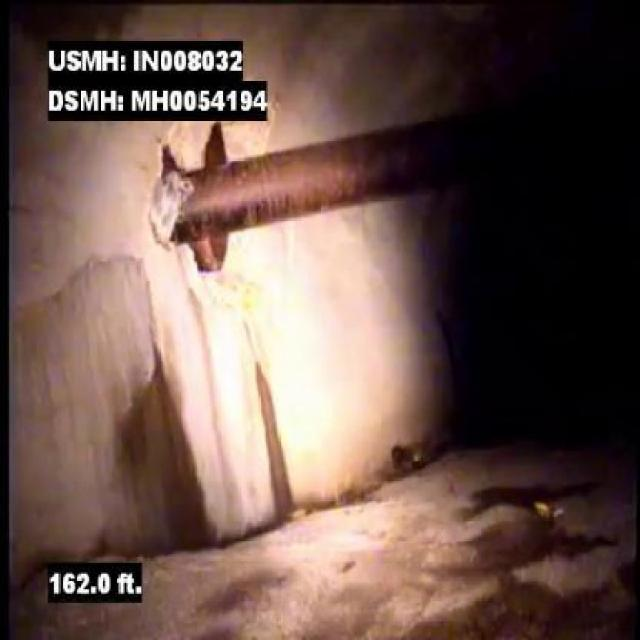Crack: (17, 247, 138, 316)
Utility intrusion: (151, 120, 457, 248)
